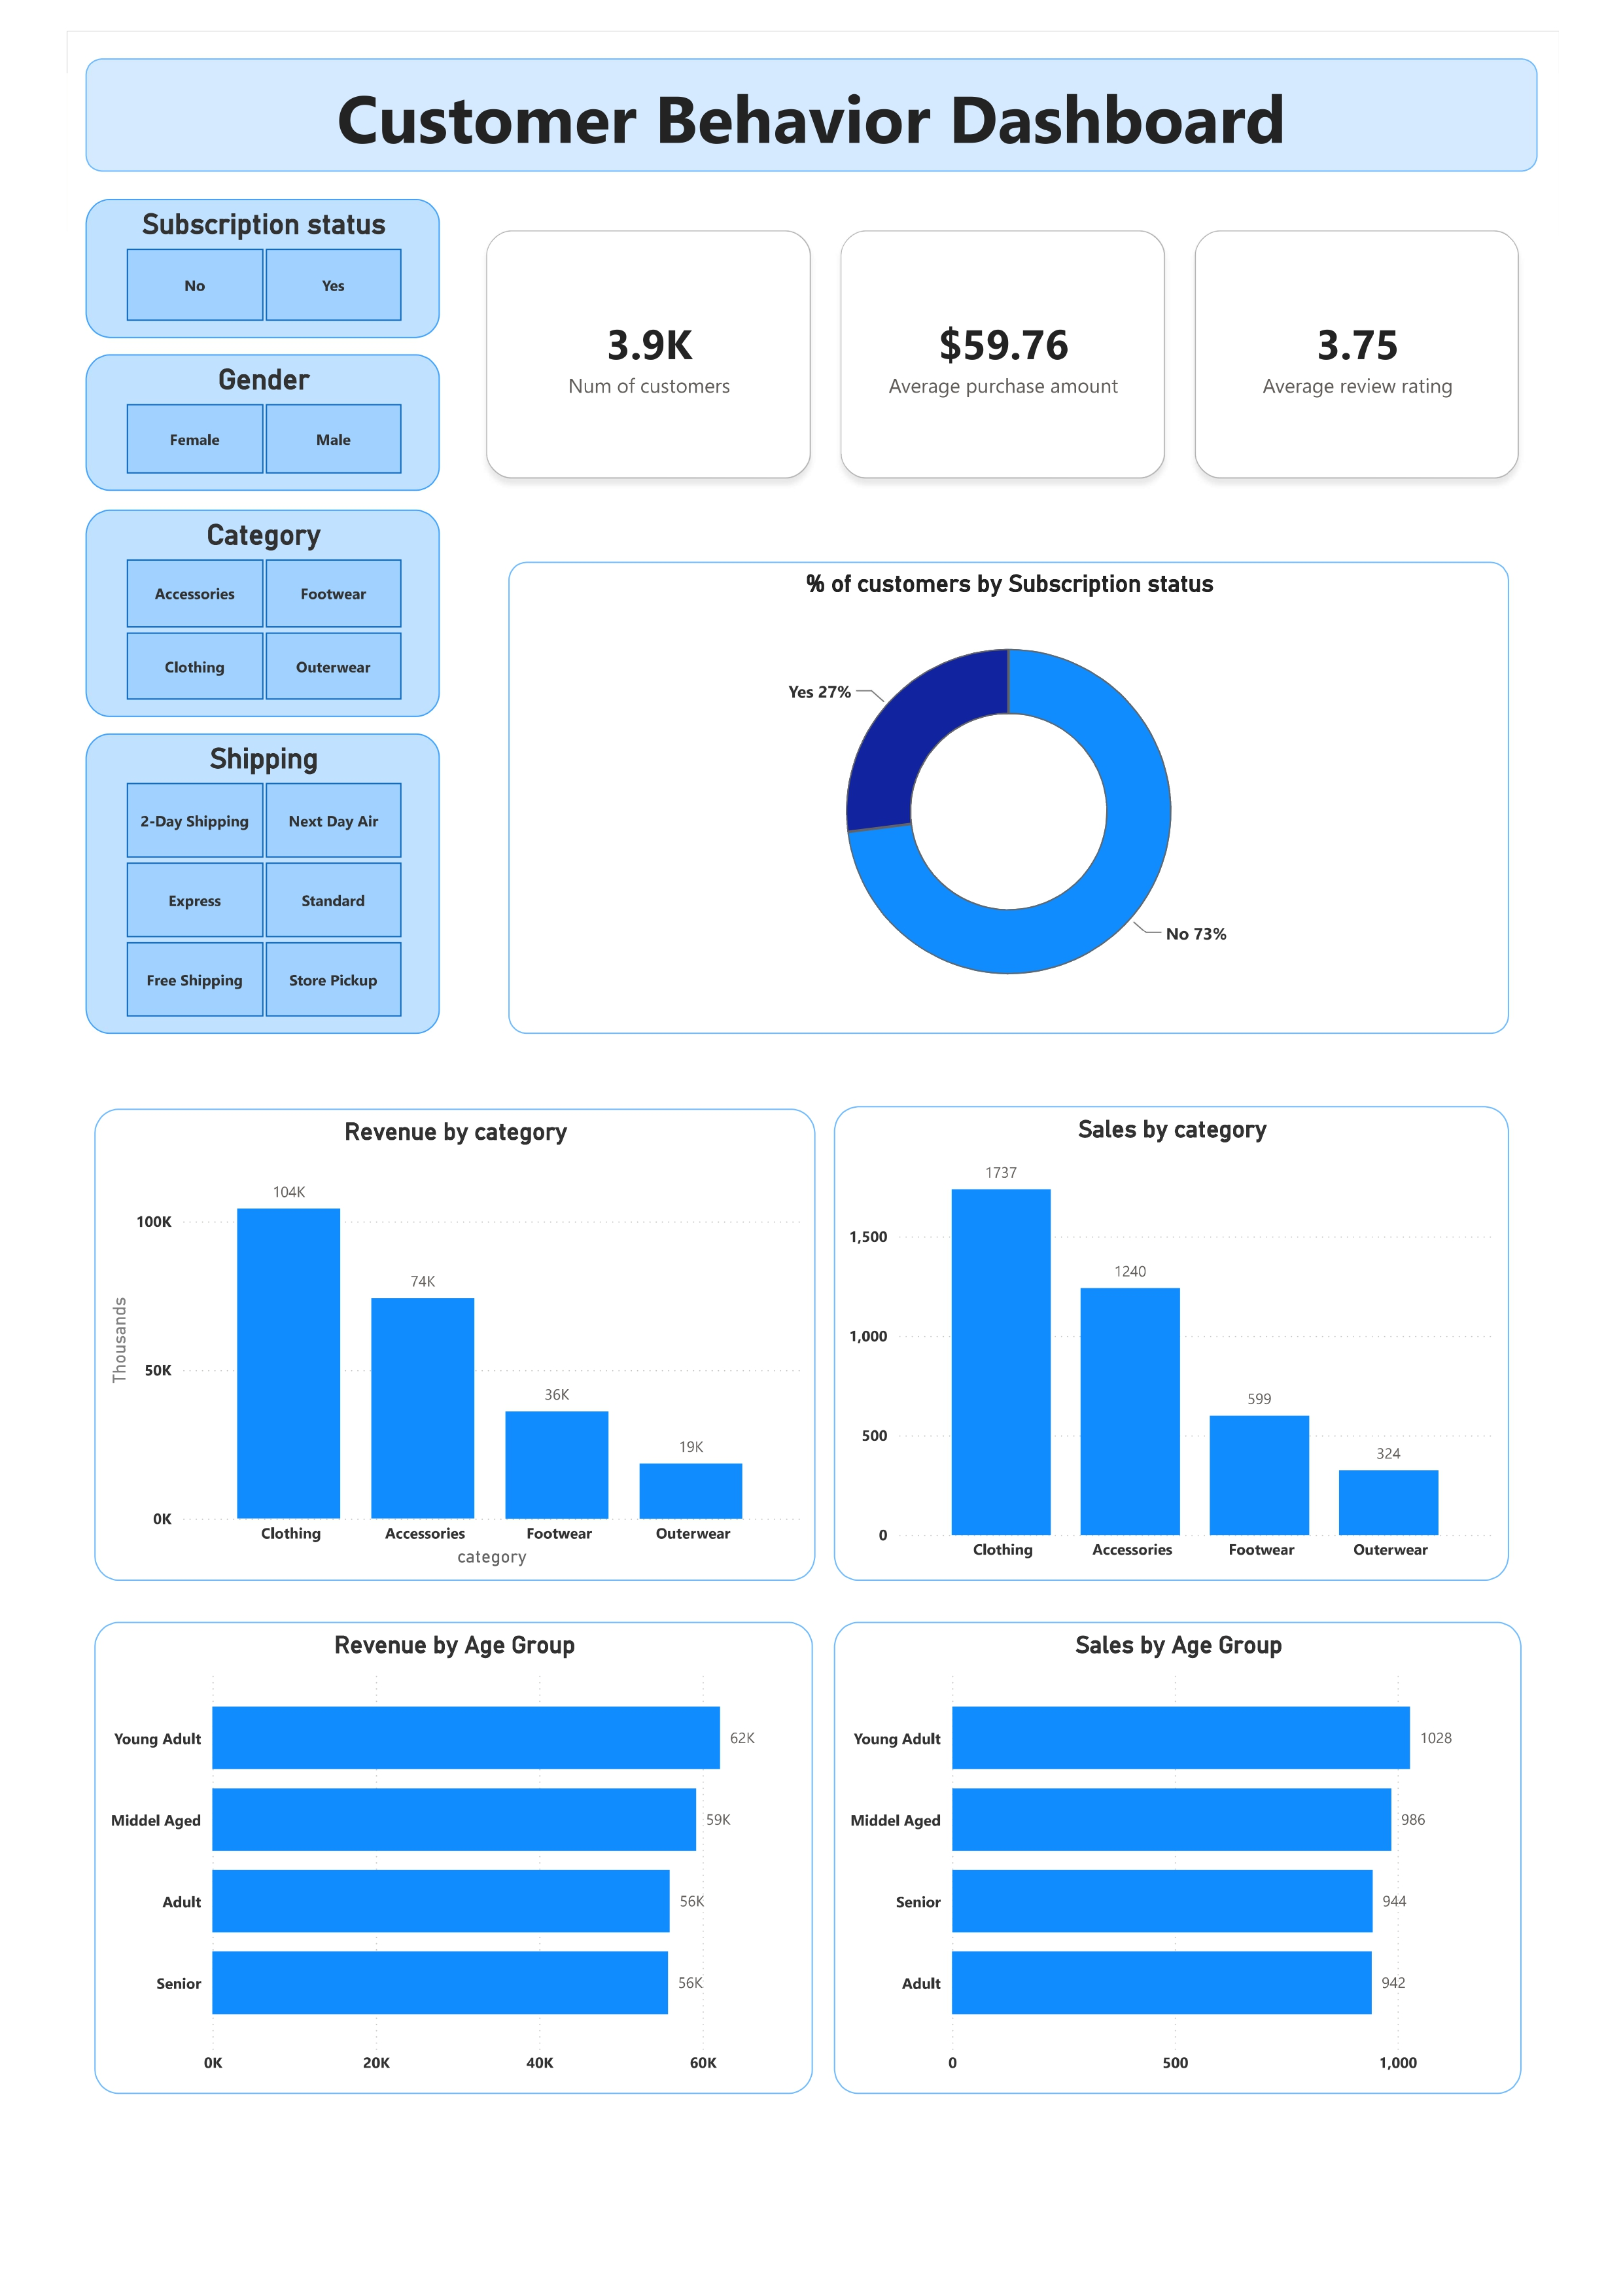

This screenshot's page, from the dashboard's own definition file:
{"tool":"powerbi","page":{"name":"Page 1","canvas":[1200,1800],"ordinal":0},"visuals":[{"type":"cardVisual","fields":{"Data":["customer_behavior customer.Num of customers","customer_behavior customer.Average purchase amount","customer_behavior customer.Average review rating"]},"box":[311.7,135,883.3,250],"z":0},{"type":"textbox","box":[15,21.7,1168.3,91.7],"z":1000},{"type":"donutChart","title":"% of customers by Subscription status","fields":{"Category":["customer_behavior customer.subscription_status"],"Y":["CountNonNull(customer_behavior customer.customer_id)"]},"box":[355,426.7,805,380],"z":2000},{"type":"clusteredColumnChart","title":"Revenue by category","fields":{"Y":["Sum(customer_behavior customer.purchase_amount)"],"Category":["customer_behavior customer.category"]},"box":[21.7,866.7,580,380],"z":3000},{"type":"clusteredColumnChart","title":"Sales by category","fields":{"Y":["CountNonNull(customer_behavior customer.customer_id)"],"Category":["customer_behavior customer.category"]},"box":[616.7,865,543.3,381.7],"z":4000},{"type":"slicer","title":"Subscription status","fields":{"Values":["customer_behavior customer.subscription_status"]},"box":[15,135,285,111.7],"z":5000},{"type":"slicer","title":"Gender","fields":{"Values":["customer_behavior customer.gender"]},"box":[15,260,285,110],"z":6000},{"type":"slicer","title":"Category","fields":{"Values":["customer_behavior customer.category"]},"box":[15,385,285,166.7],"z":7000},{"type":"slicer","title":"Shipping","fields":{"Values":["customer_behavior customer.shipping_type"]},"box":[15,565,285,241.7],"z":8000},{"type":"clusteredBarChart","title":"Revenue by Age Group","fields":{"Y":["Sum(customer_behavior customer.purchase_amount)"],"Category":["customer_behavior customer.age_group"]},"box":[21.7,1280,578.3,380],"z":9000},{"type":"clusteredBarChart","title":"Sales by Age Group","fields":{"Y":["CountNonNull(customer_behavior customer.customer_id)"],"Category":["customer_behavior customer.age_group"]},"box":[616.7,1280,553.3,380],"z":10000}]}

Visuals, with their boxes on the page's 1200x1800 design canvas (x1, y1, x2, y2). These are canvas units, not pixel positions in the 1623x2296 screenshot, which may show the page scaled, cropped or inside an application window:
cardVisual - customer_behavior customer.Num of customers x customer_behavior customer.Average purchase amount: x1=312, y1=135, x2=1195, y2=385
textbox: x1=15, y1=22, x2=1183, y2=113
"% of customers by Subscription status" donutChart: x1=355, y1=427, x2=1160, y2=807
"Revenue by category" clusteredColumnChart: x1=22, y1=867, x2=602, y2=1247
"Sales by category" clusteredColumnChart: x1=617, y1=865, x2=1160, y2=1247
"Subscription status" slicer: x1=15, y1=135, x2=300, y2=247
"Gender" slicer: x1=15, y1=260, x2=300, y2=370
"Category" slicer: x1=15, y1=385, x2=300, y2=552
"Shipping" slicer: x1=15, y1=565, x2=300, y2=807
"Revenue by Age Group" clusteredBarChart: x1=22, y1=1280, x2=600, y2=1660
"Sales by Age Group" clusteredBarChart: x1=617, y1=1280, x2=1170, y2=1660
